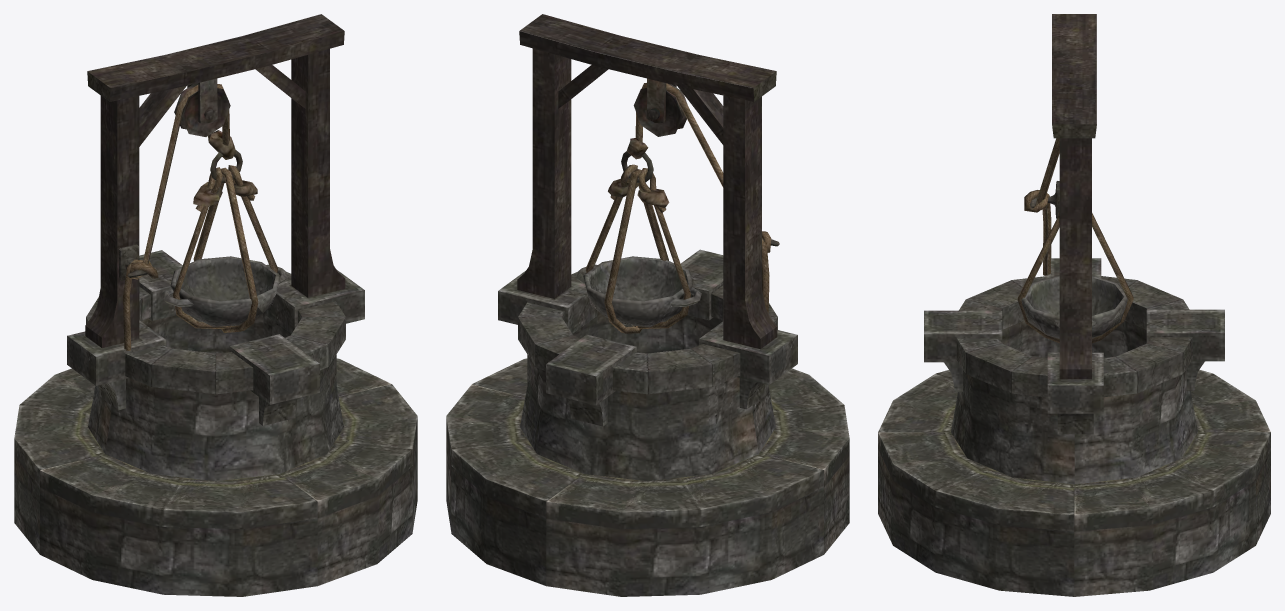
File: eso_gu11_StoneWell3-transformed.glb
3 renders of one model, left to right at view 1: azimuth 30°, elevation 25°; view 2: azimuth 150°, elevation 25°; view 3: azimuth 270°, elevation 25°, orthographic. The views are drawn at different scales.
Parts seen in each view (by area): view 1: default; view 2: default; view 3: default.
Part boxes in pixels (x1,y1,x2,y2): default: (14,14,417,596); default: (446,14,849,596); default: (878,14,1270,596).
Bounding box in the file's own units: 3.04 × 3.8 × 3.04.
Materials: 1 (1 with a texture image).
